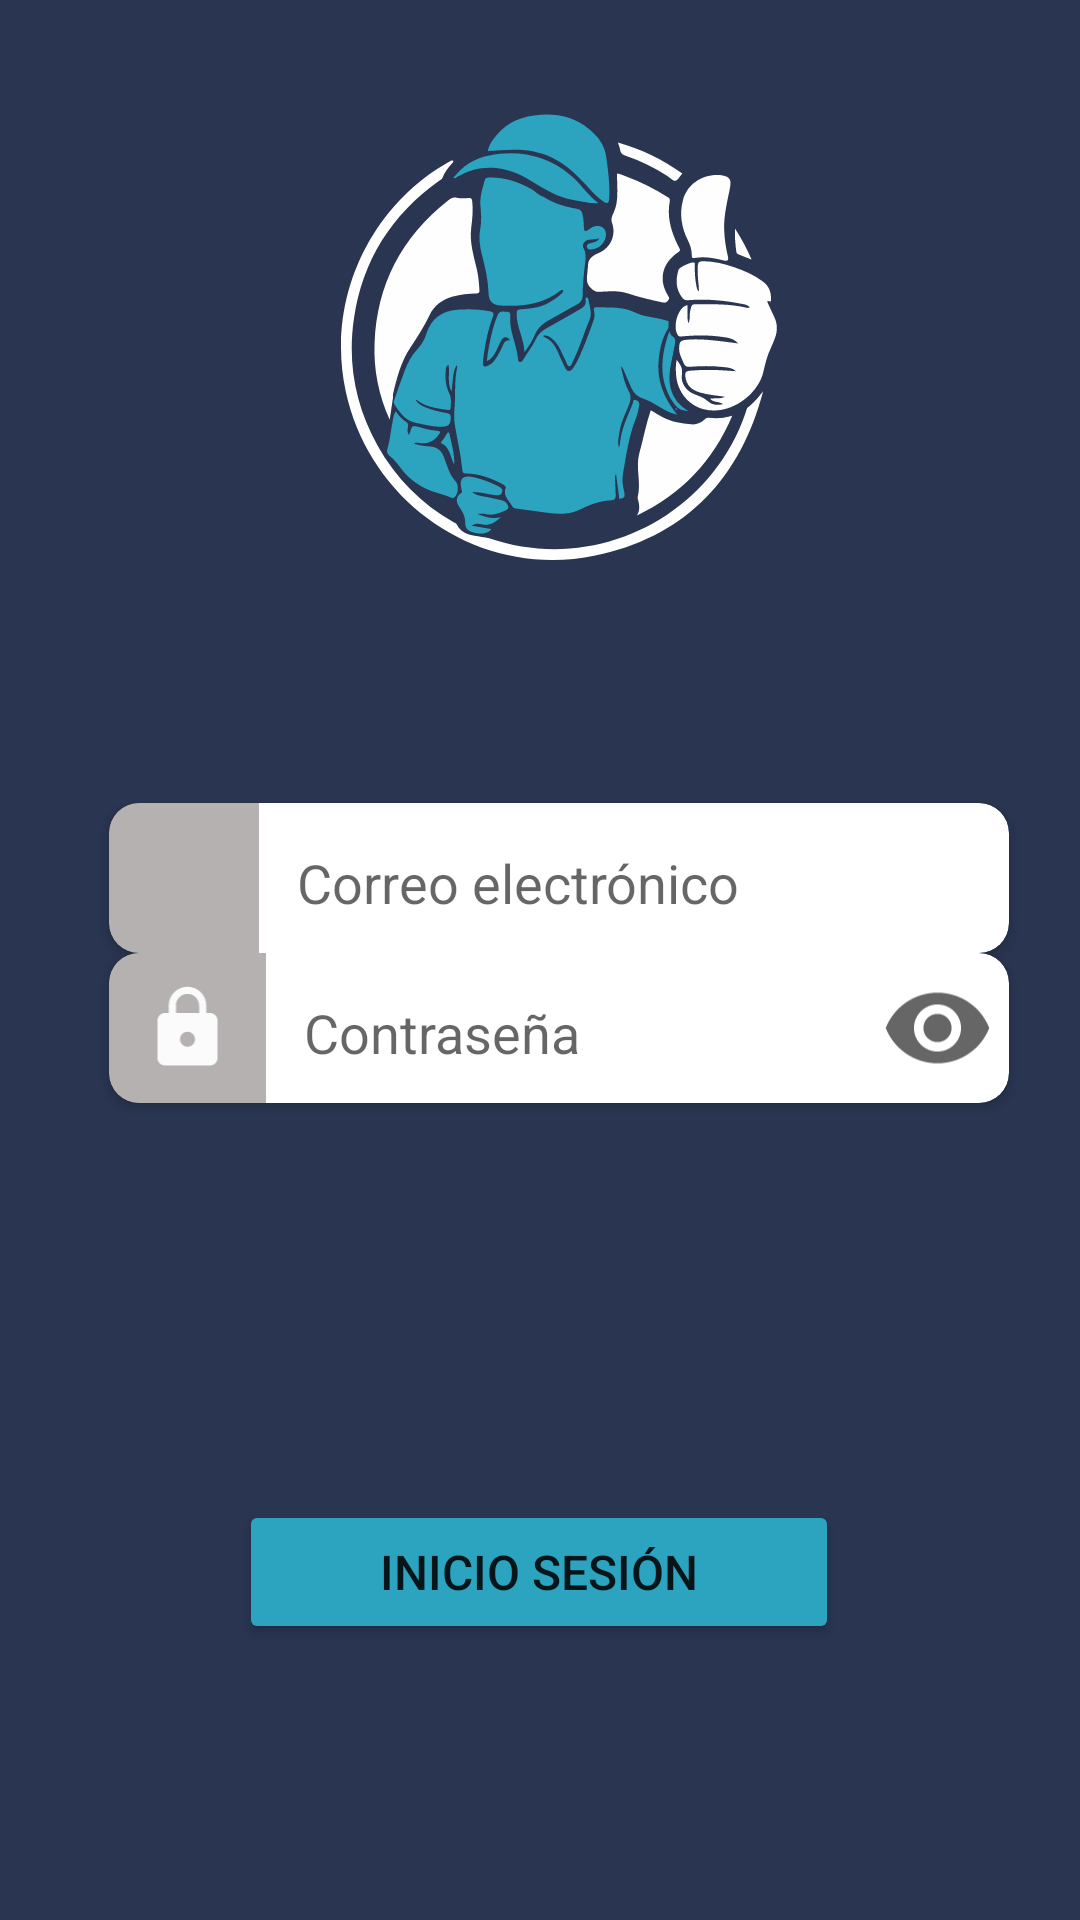

Named icons in this screenshot (1080 x 1920) and their centers, (x=x, y=y):
lock: (x=187, y=1028)
